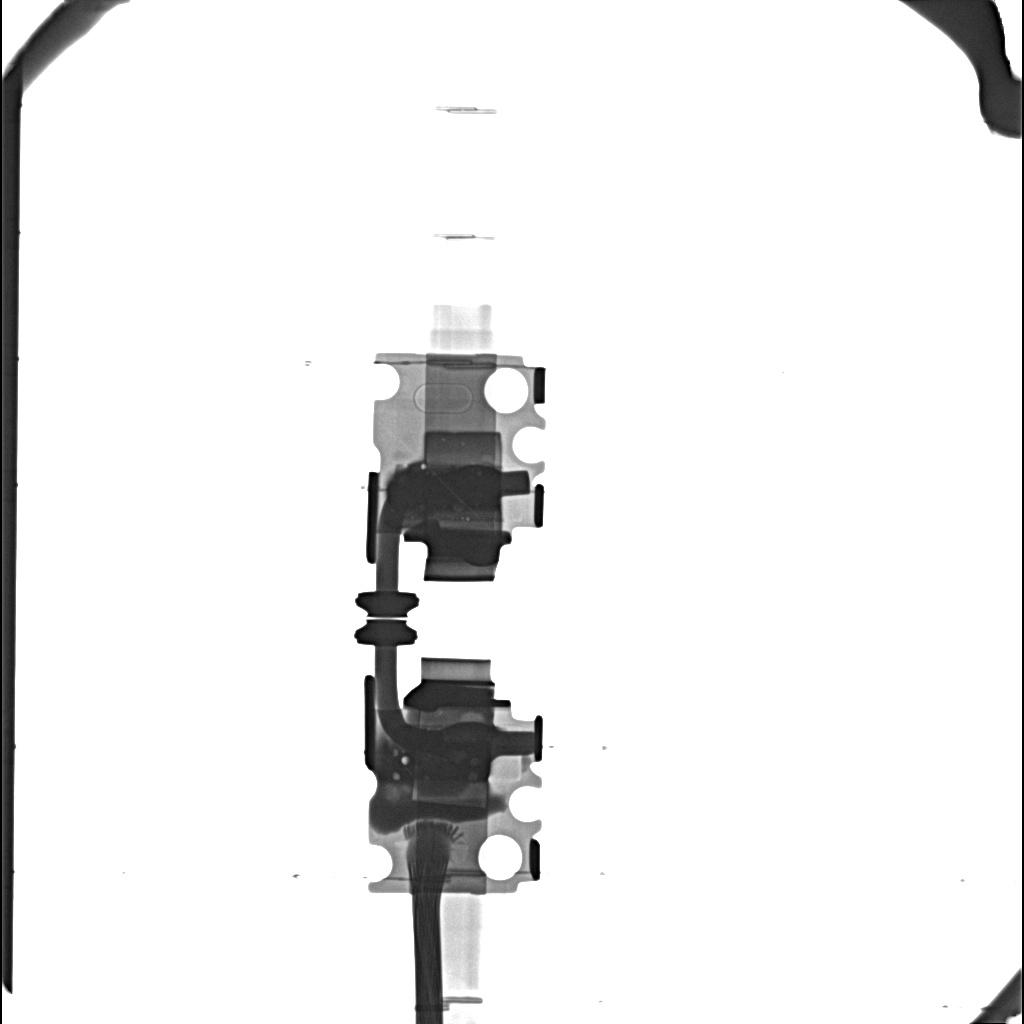PX: (423, 431, 503, 465), (410, 783, 489, 809)
SX: (387, 465, 500, 517), (385, 730, 491, 781)
